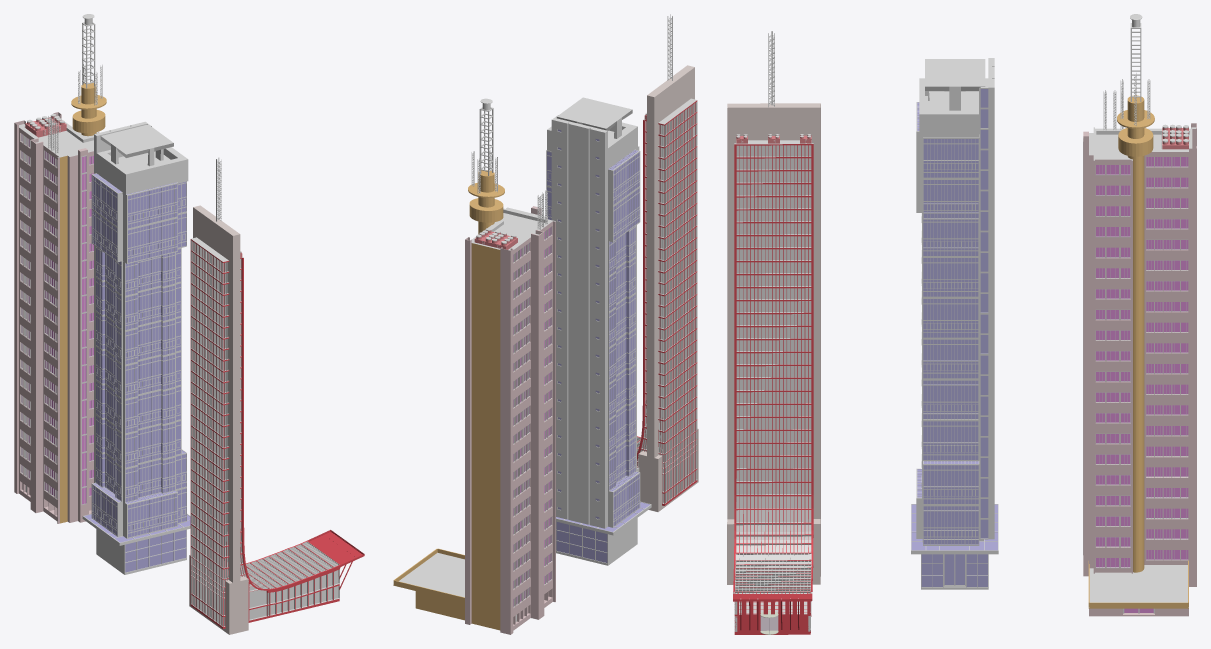
The model's file is skyscrapers.fbx.
3 views of the same model, side by side, from view 1: azimuth 30°, elevation 25°; view 2: azimuth 150°, elevation 25°; view 3: azimuth 270°, elevation 25° (orthographic). The views are drawn at different scales.
Parts seen in each view (by area): view 1: skyscraper7, skyscraper6, skyscraper5; view 2: skyscraper6, skyscraper7, skyscraper5; view 3: skyscraper6, skyscraper5, skyscraper7.
Boxes of the visible parts, x1,y1,x2,y2 form: skyscraper7: [82, 121, 190, 574]; skyscraper6: [14, 14, 106, 523]; skyscraper5: [189, 157, 364, 634]; skyscraper6: [393, 98, 555, 634]; skyscraper7: [546, 97, 651, 565]; skyscraper5: [637, 14, 698, 511]; skyscraper6: [1083, 14, 1196, 616]; skyscraper5: [727, 31, 820, 634]; skyscraper7: [911, 58, 998, 589].
Bounding box in the file's own units: 392 × 1070 × 792.
